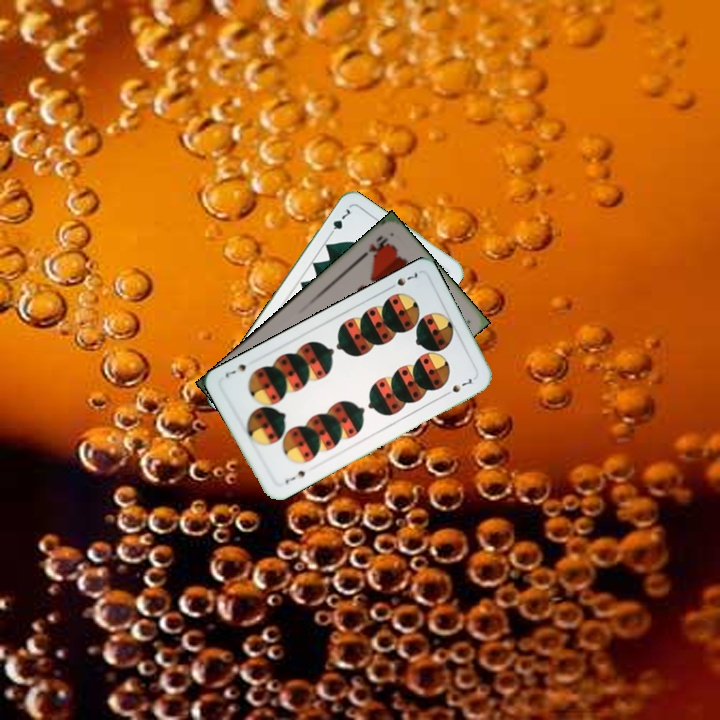G7: (324, 204, 353, 240)
HO: (356, 231, 391, 261)
S7: (384, 269, 421, 293), (281, 466, 308, 487)
